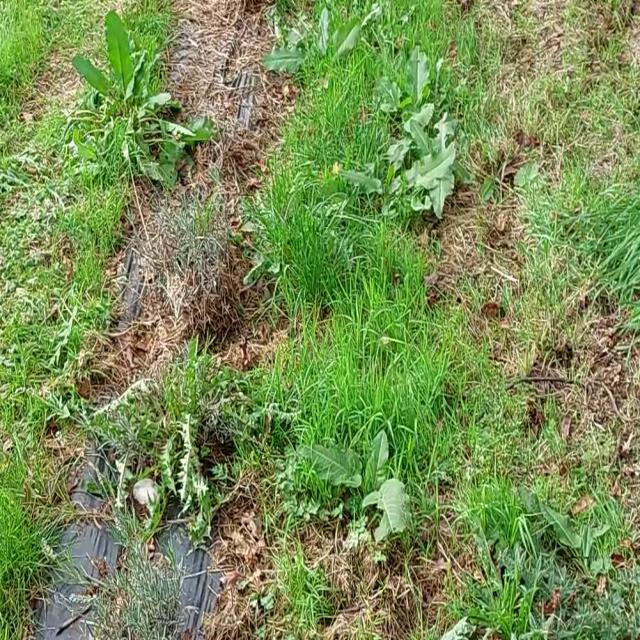organic waste: (54, 7, 188, 180), (314, 428, 426, 562), (349, 29, 458, 149), (380, 100, 474, 232), (261, 0, 366, 82)
